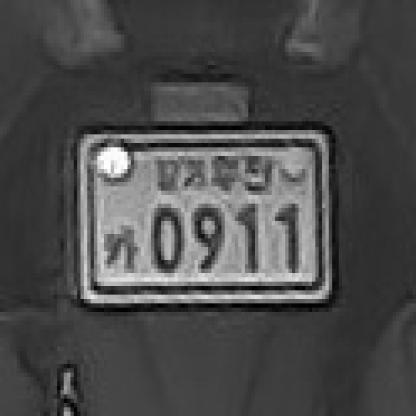bnum: (68, 127, 341, 313)
